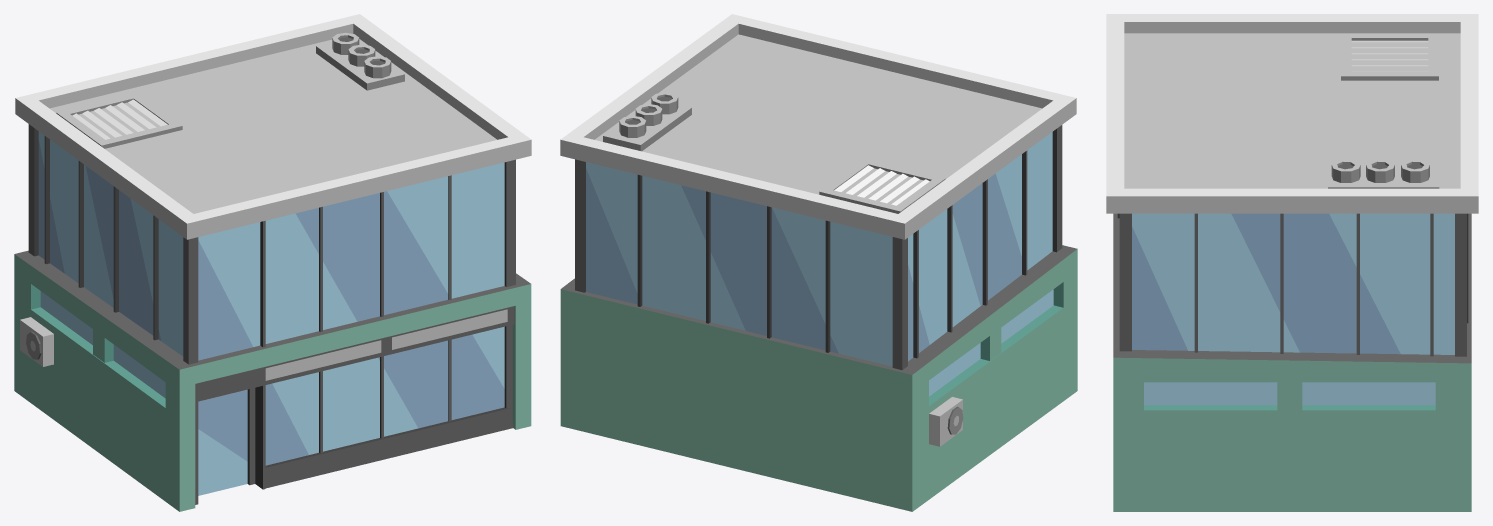
File: supermarket_001.glb
The picture shows the model from 3 angles, left to right: view 1: azimuth 30°, elevation 25°; view 2: azimuth 150°, elevation 25°; view 3: azimuth 270°, elevation 25°; orthographic projection. The views are drawn at different scales.
Parts seen in each view (by area): view 1: supermarket_001; view 2: supermarket_001; view 3: supermarket_001.
Part boxes in pixels (left/top/right/bottom): supermarket_001: left=14, top=14, right=531, bottom=511; supermarket_001: left=560, top=14, right=1077, bottom=511; supermarket_001: left=1106, top=14, right=1478, bottom=511.
Bounding box in the file's own units: 7.38 × 5.79 × 6.03.
Materials: 1 (1 with a texture image).
